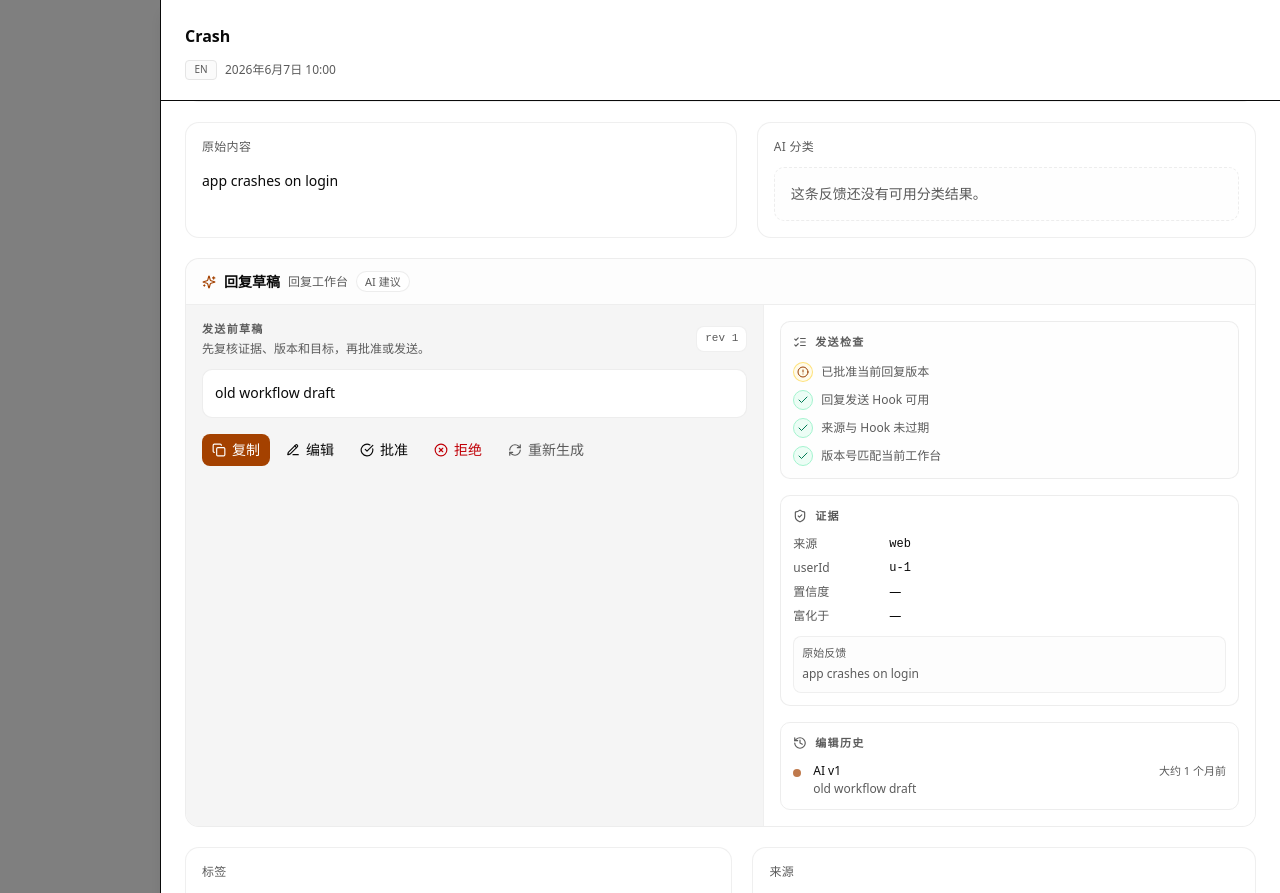
it: FeedbackDetailSheet › uses the workflow returned by a successful regenerate immediately
This screenshot has width=1280, height=893.
(page scrolled)
Click the button "重新生成": (546, 450) [498,434,594,466]
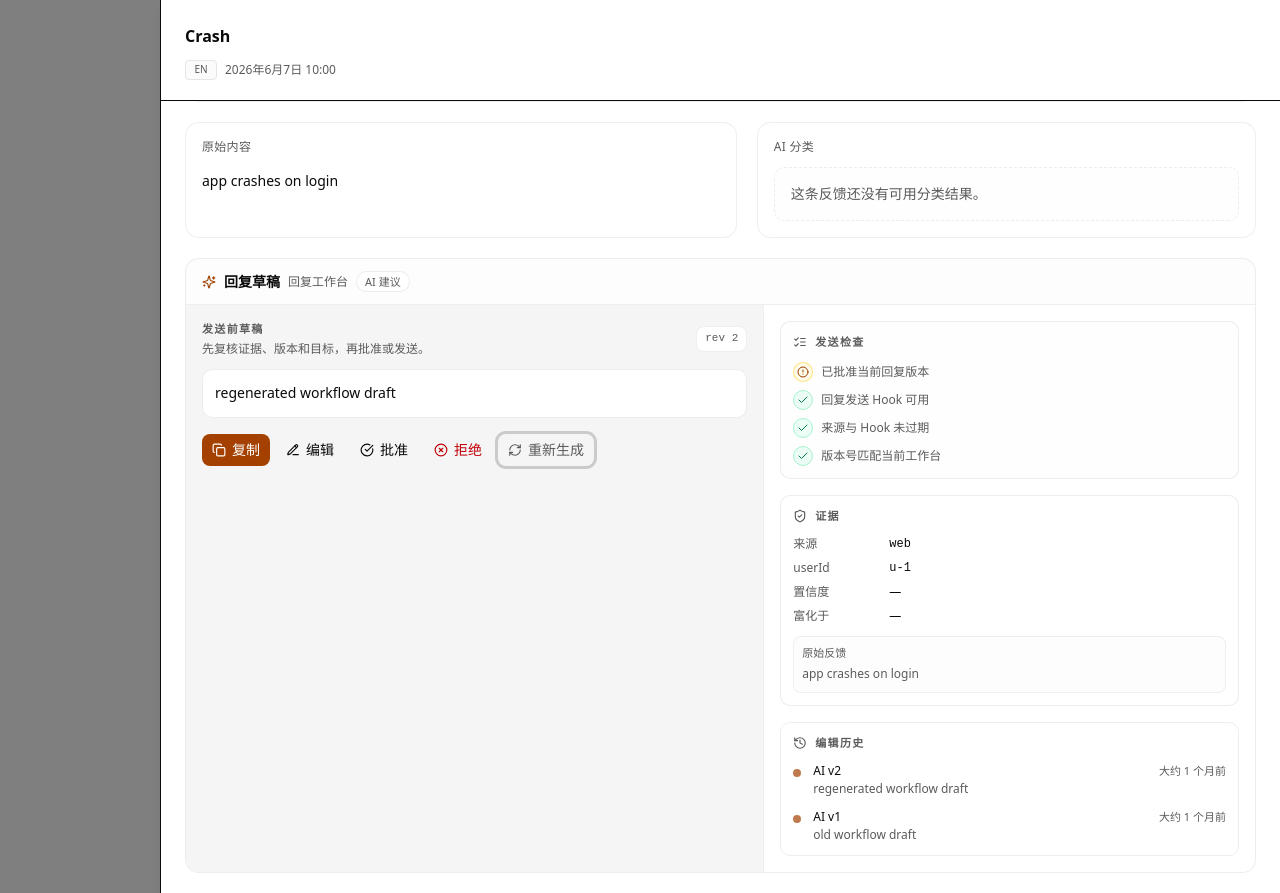
Expected: the text "rev 2" is shown, [696,326,747,352]
